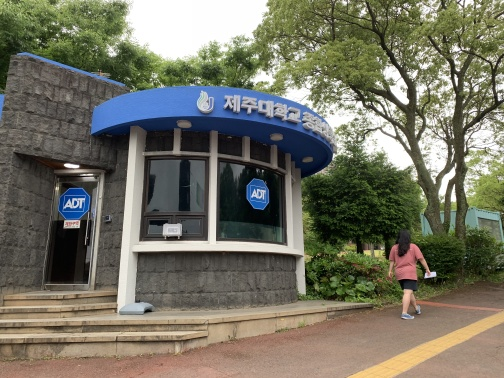Security Office: (5, 50, 343, 360)
